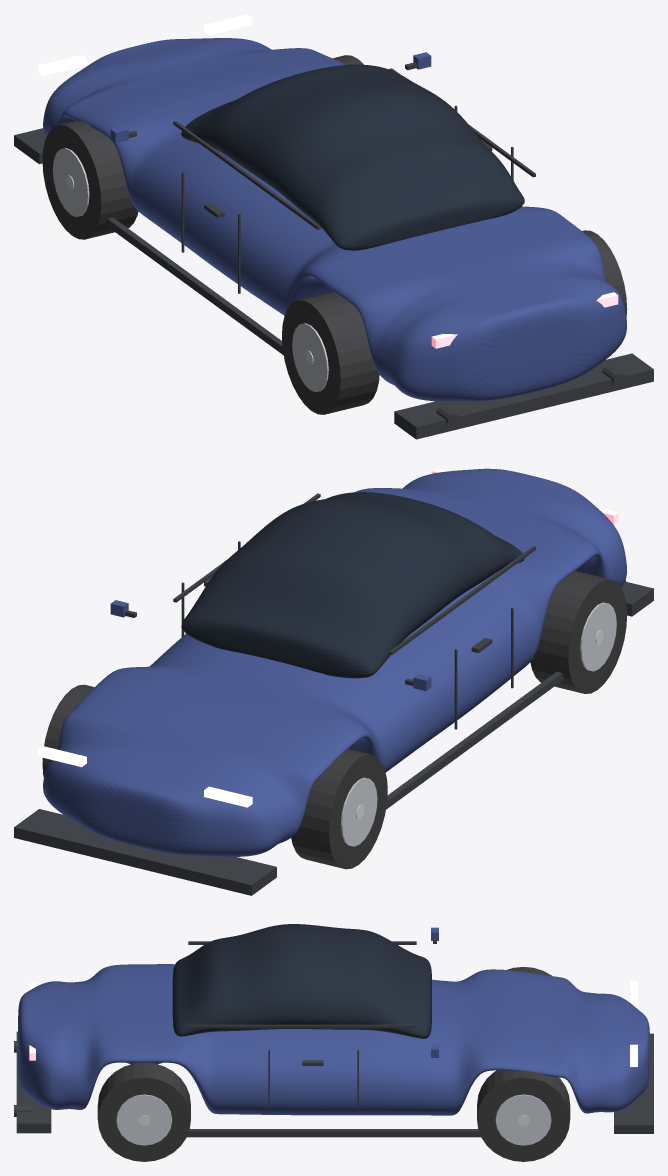
Rendered from titan-rs.glb.
3 views of the same model, one above another, from view 1: azimuth 30°, elevation 25°; view 2: azimuth 150°, elevation 25°; view 3: azimuth 270°, elevation 25° (orthographic). The views are drawn at different scales.
Parts seen in each view (by area): view 1: Body, Glass, Trim, WheelRL, WheelFL, LightFront, WheelRR; view 2: Body, Glass, Trim, WheelRL, WheelFL, WheelFR, LightFront; view 3: Body, Glass, WheelRR, Trim, WheelFR, LightFront.
Part boxes in pixels (x1,y1,x2,y2): Body: (43,38,626,401); Glass: (181,64,524,250); Trim: (14,52,653,439); WheelRL: (282,291,379,414); WheelFL: (42,120,138,239); LightFront: (38,14,252,75); WheelRR: (582,230,627,317); Body: (43,468,626,856); Glass: (181,492,524,678); Trim: (14,493,653,895); WheelRL: (530,571,627,693); WheelFL: (291,749,387,869); WheelFR: (42,684,94,777); LightFront: (38,746,252,807); Body: (18,964,649,1115); Glass: (172,924,431,1038); WheelRR: (97,1062,190,1161); Trim: (14,927,653,1137); WheelFR: (477,1070,570,1161); LightFront: (630,980,637,1066).
Size of the model in its own units: 2.17 by 1.39 by 4.81.
